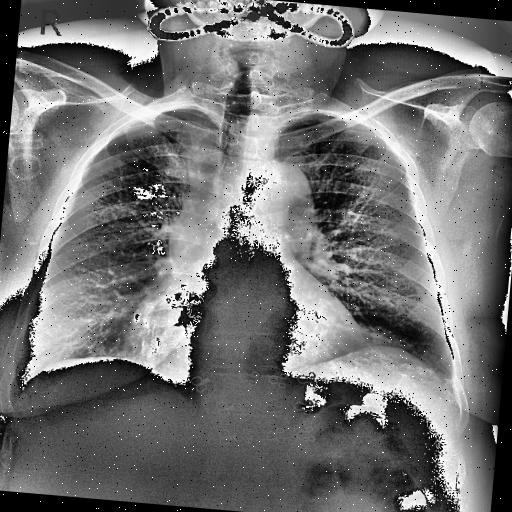0- Aortic enlargement: (238, 162, 317, 244), (237, 158, 319, 230), (250, 159, 316, 232)
11- Pleural thickening: (286, 109, 330, 134)
13- Pulmonary fibrosis: (438, 373, 452, 383)
3- Cardiomegaly: (127, 290, 373, 380), (125, 288, 371, 377), (122, 305, 371, 377)
